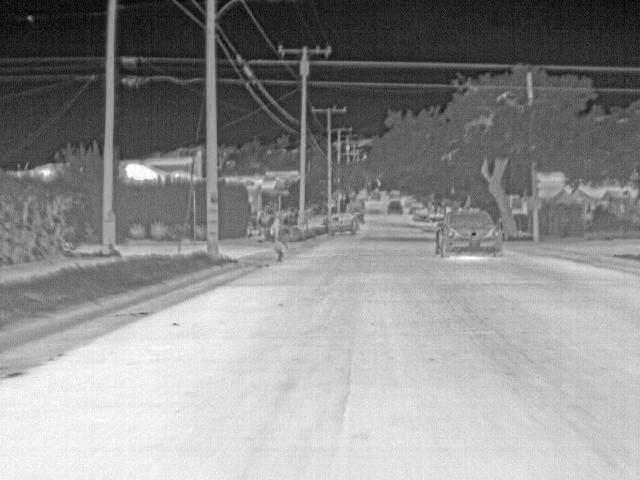car: (437, 207, 503, 258), (332, 211, 359, 233), (389, 198, 404, 214), (415, 209, 431, 223), (348, 202, 366, 214), (411, 202, 426, 216), (356, 188, 368, 202), (430, 214, 442, 228), (391, 188, 403, 200), (406, 196, 418, 208), (370, 190, 383, 200)
person: (271, 218, 287, 262)
